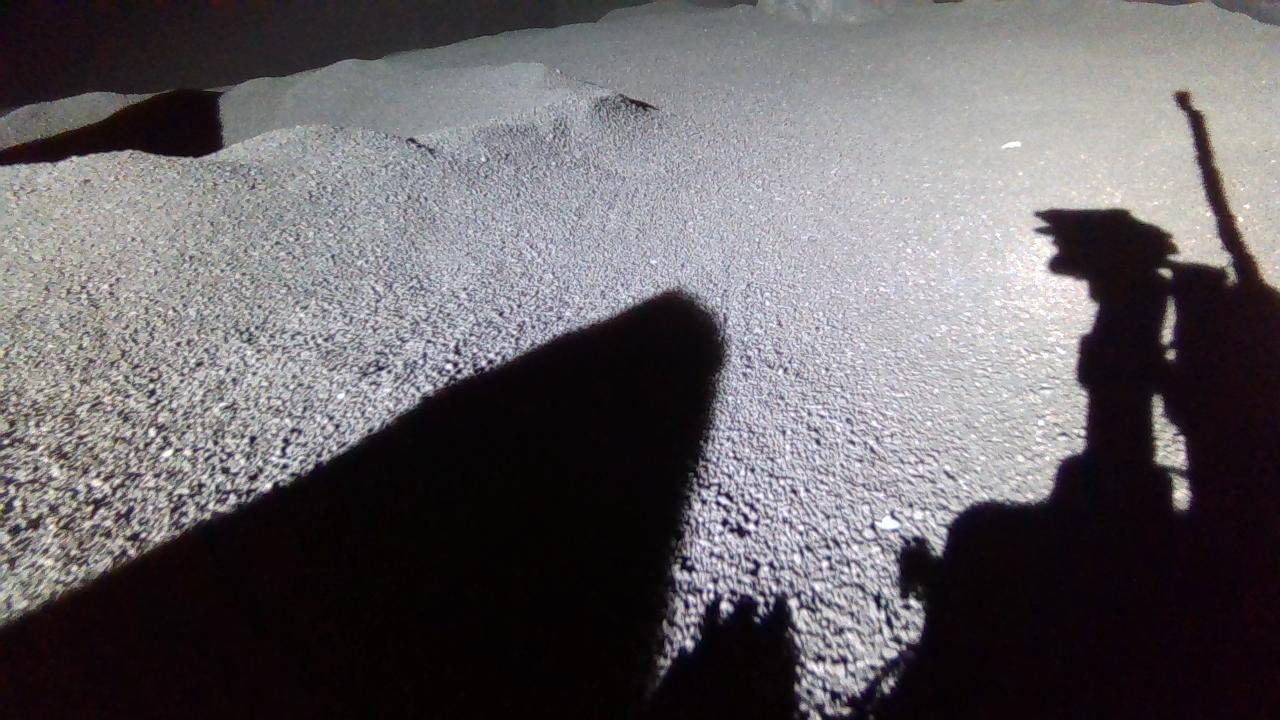rock: (758, 0, 899, 22)
